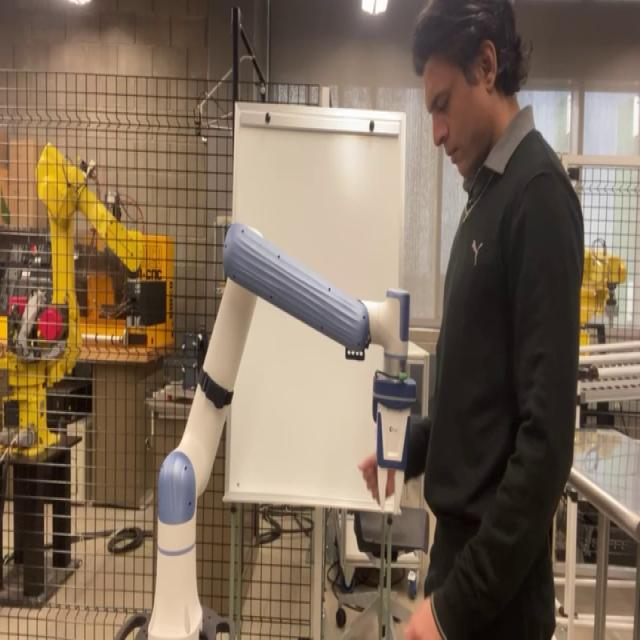human: (357, 0, 585, 637)
